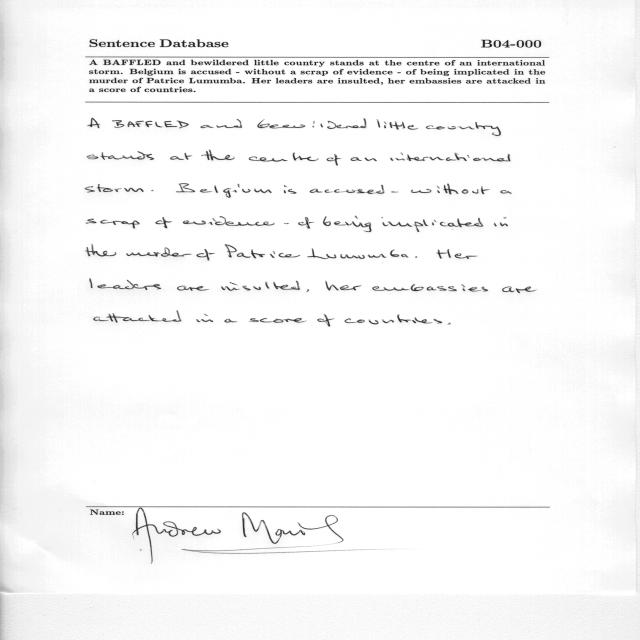word: (381, 217, 483, 232), (176, 184, 272, 198), (257, 118, 366, 129), (391, 153, 511, 162), (426, 122, 501, 136), (225, 245, 300, 259), (94, 311, 181, 323), (307, 249, 408, 259), (345, 315, 443, 325), (183, 216, 275, 226), (411, 184, 489, 195), (372, 284, 488, 291), (221, 281, 300, 291), (90, 279, 161, 290), (323, 216, 371, 232), (310, 185, 385, 194), (249, 153, 319, 162), (112, 120, 189, 128), (87, 151, 154, 160), (126, 248, 192, 257), (86, 219, 140, 229), (85, 184, 144, 192), (377, 119, 418, 130), (436, 249, 477, 259), (201, 119, 243, 128), (325, 281, 362, 291), (86, 245, 117, 256), (201, 150, 235, 160), (249, 318, 307, 323), (502, 287, 536, 294), (318, 314, 335, 327), (197, 249, 215, 261), (298, 217, 314, 229), (155, 217, 172, 228), (327, 154, 342, 165), (177, 286, 209, 291), (170, 153, 192, 160), (196, 314, 213, 322), (494, 217, 508, 226), (88, 118, 100, 128), (284, 185, 297, 194), (351, 157, 377, 161), (225, 319, 238, 323), (501, 190, 512, 194), (306, 289, 309, 292), (447, 323, 451, 325), (391, 192, 398, 193), (284, 223, 289, 224), (415, 256, 417, 258), (151, 190, 154, 191)
